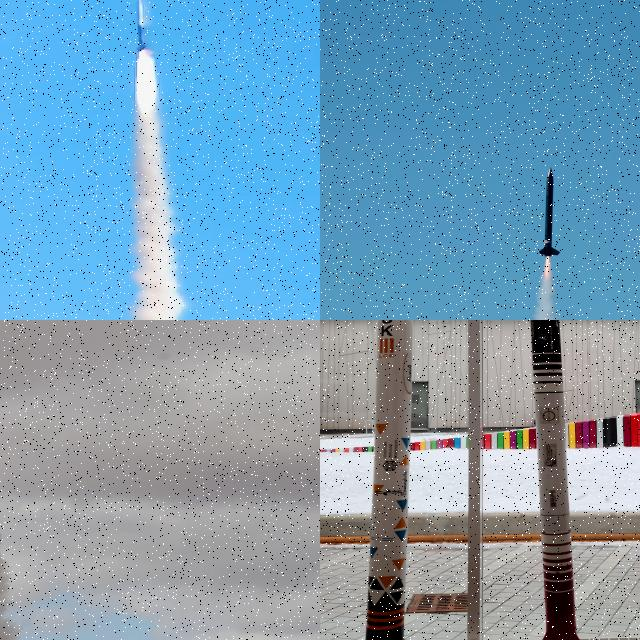Rocket: (530, 320, 582, 640), (366, 320, 413, 640), (538, 167, 561, 257), (136, 0, 146, 51)
